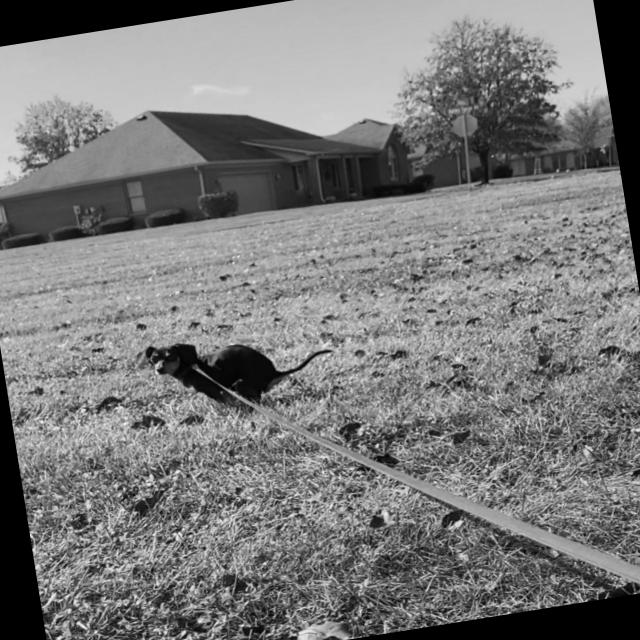squatting: (134, 308, 348, 436)
